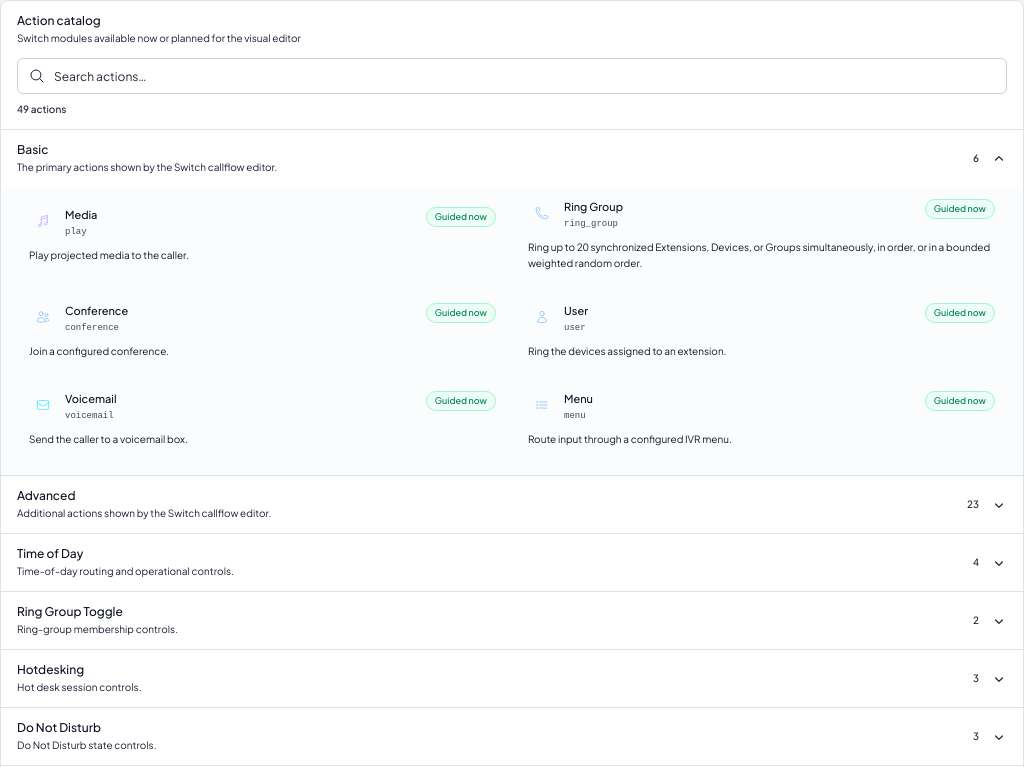
Test case: CallflowActionPalette › searches schema-backed actions and identifies capability-gated modules
Type "webhook" into the search field with placeholder "Search actions…".
click(512, 76); type("webhook")  # box [17,58,1007,94]
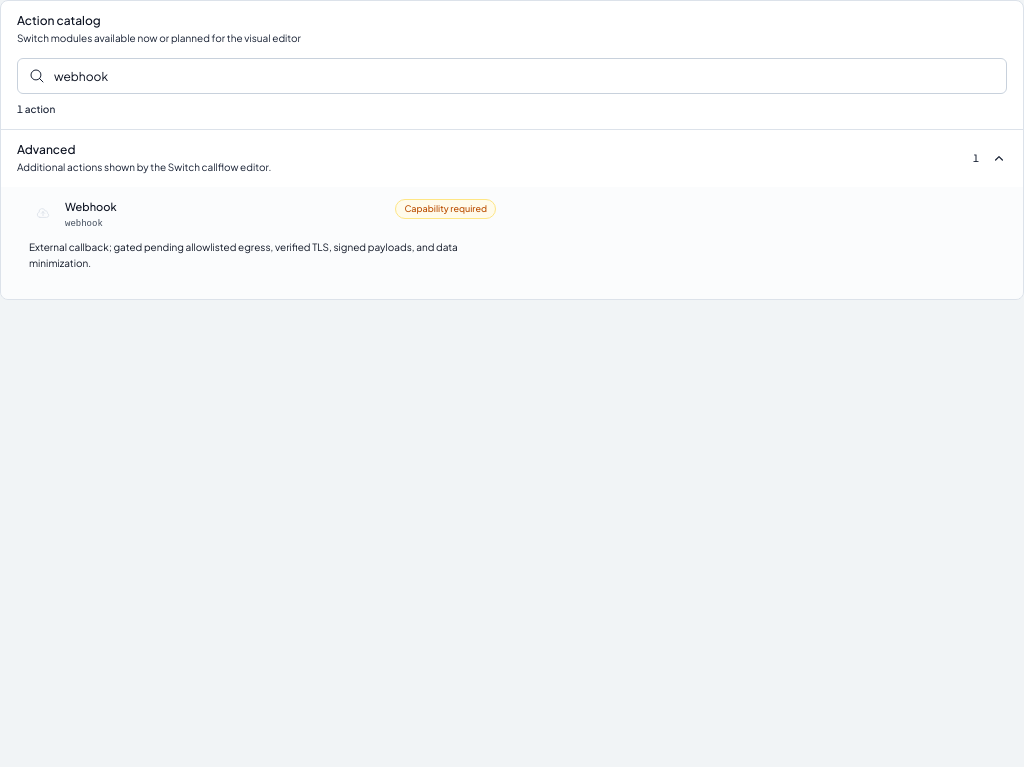
Expected: the text "1 action" is shown, [17,103,55,115]
Expected: the text "Webhook" is shown, [65,199,117,216]
Expected: the text "Capability required" is shown, [395,199,496,218]
